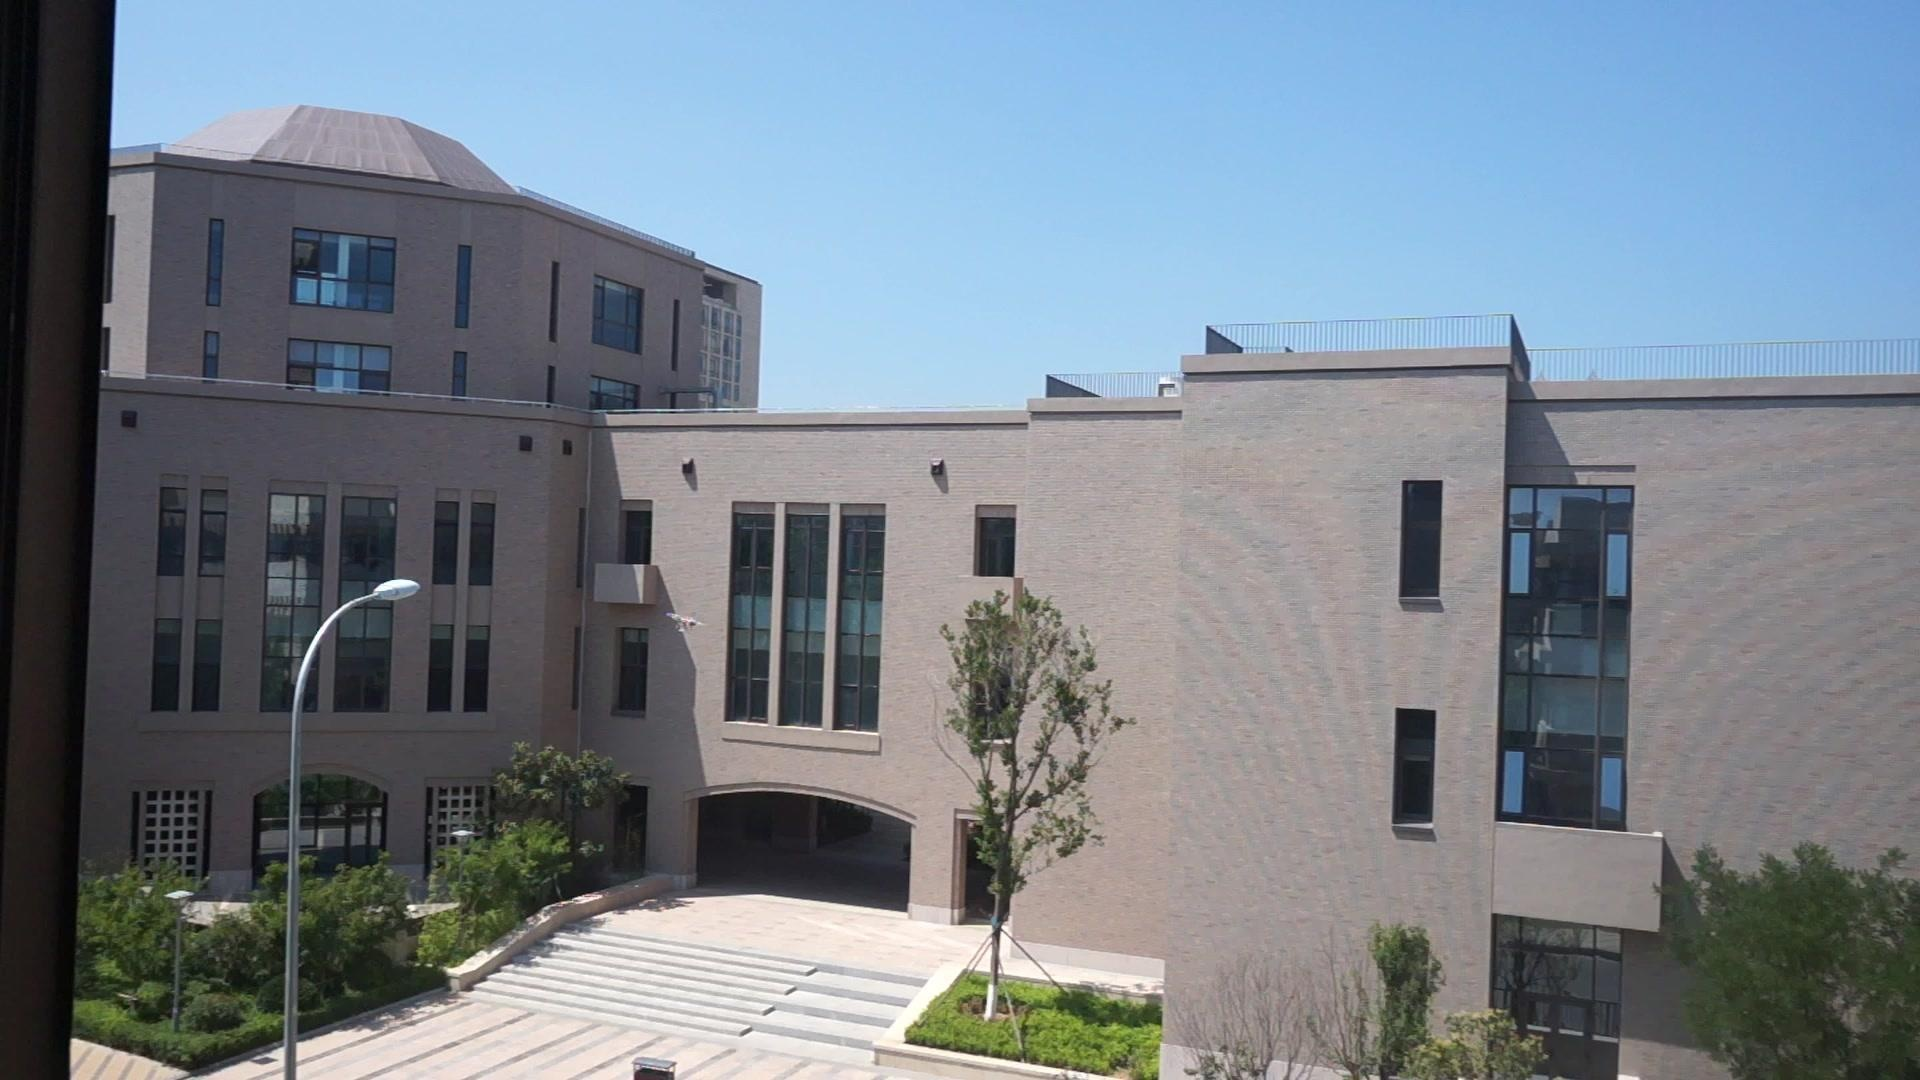UAV: (666, 612, 708, 633)
